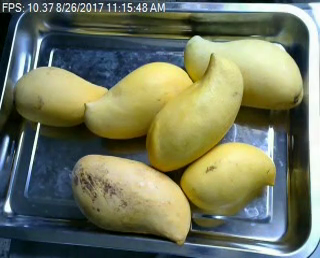Mango: (144, 52, 243, 173), (69, 155, 192, 245), (185, 35, 304, 107), (85, 62, 194, 138), (182, 142, 275, 212), (13, 65, 111, 127)
